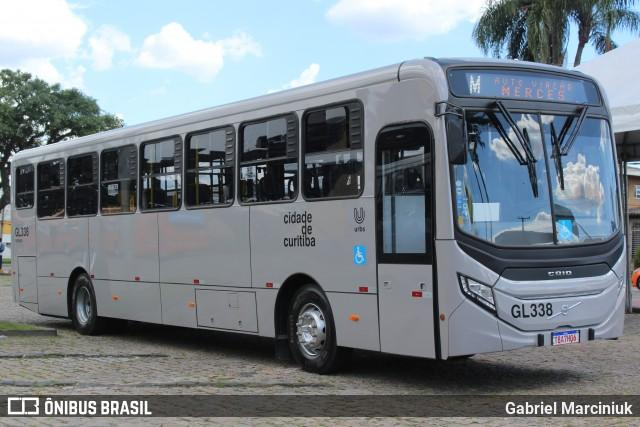MERCES: (498, 84, 569, 103)
